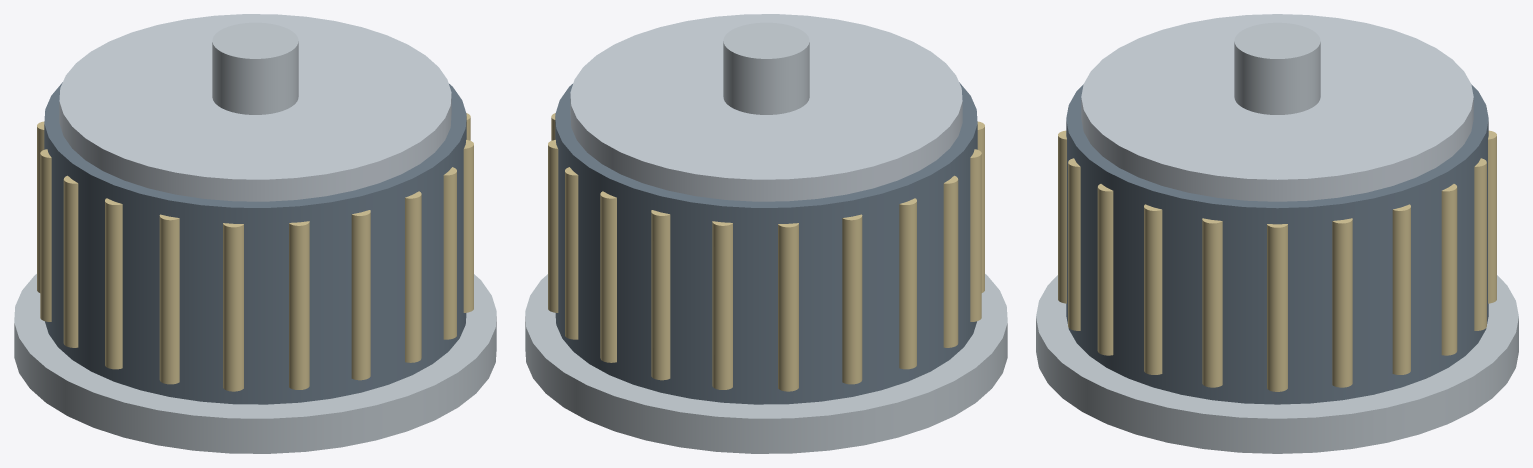
The picture shows the model from 3 angles, left to right: view 1: azimuth 30°, elevation 25°; view 2: azimuth 150°, elevation 25°; view 3: azimuth 270°, elevation 25°; orthographic projection.
Visible parts, largest first — view 1: M2/0000_stator, M2/0002_rotor, M2/0001_mount, M2/0003_shaft, M2/0016_stator_detail, M2/0018_stator_detail, M2/0017_stator_detail, M2/0019_stator_detail, M2/0015_stator_detail, M2/0020_stator_detail, M2/0014_stator_detail, M2/0021_stator_detail (+3 smaller); view 2: M2/0000_stator, M2/0002_rotor, M2/0001_mount, M2/0003_shaft, M2/0012_stator_detail, M2/0010_stator_detail, M2/0011_stator_detail, M2/0009_stator_detail, M2/0013_stator_detail, M2/0008_stator_detail, M2/0014_stator_detail, M2/0007_stator_detail (+3 smaller); view 3: M2/0000_stator, M2/0002_rotor, M2/0001_mount, M2/0003_shaft, M2/0005_stator_detail, M2/0023_stator_detail, M2/0004_stator_detail, M2/0006_stator_detail, M2/0022_stator_detail, M2/0007_stator_detail, M2/0021_stator_detail, M2/0008_stator_detail (+3 smaller).
Boxes of the visible parts, x1,y1,x2,y2 form: M2/0000_stator: (44,82,466,404); M2/0002_rotor: (59,14,451,201); M2/0001_mount: (14,274,496,453); M2/0003_shaft: (212,22,298,114); M2/0016_stator_detail: (159,214,179,384); M2/0018_stator_detail: (289,221,309,389); M2/0017_stator_detail: (223,223,243,391); M2/0019_stator_detail: (351,210,370,380); M2/0015_stator_detail: (105,198,122,369); M2/0020_stator_detail: (405,191,421,362); M2/0014_stator_detail: (63,175,78,347); M2/0021_stator_detail: (443,167,456,339); M2/0000_stator: (555,82,977,404); M2/0002_rotor: (570,14,962,201); M2/0001_mount: (525,274,1007,453); M2/0003_shaft: (723,22,809,114); M2/0012_stator_detail: (842,214,862,384); M2/0010_stator_detail: (712,221,732,389); M2/0011_stator_detail: (778,223,798,391); M2/0009_stator_detail: (651,210,670,380); M2/0013_stator_detail: (899,198,916,369); M2/0008_stator_detail: (600,191,616,362); M2/0014_stator_detail: (943,175,958,347); M2/0007_stator_detail: (565,167,578,339); M2/0000_stator: (1066,84,1488,404); M2/0002_rotor: (1081,14,1473,201); M2/0001_mount: (1036,275,1518,453); M2/0003_shaft: (1234,22,1320,114); M2/0005_stator_detail: (1332,218,1352,387); M2/0023_stator_detail: (1202,218,1222,387); M2/0004_stator_detail: (1267,224,1287,391); M2/0006_stator_detail: (1392,204,1410,374); M2/0022_stator_detail: (1144,204,1162,374); M2/0007_stator_detail: (1441,184,1457,355); M2/0021_stator_detail: (1097,184,1113,355); M2/0008_stator_detail: (1474,158,1486,330).
Size of the model in its own units: 0.0672 by 0.0477 by 0.0672.
